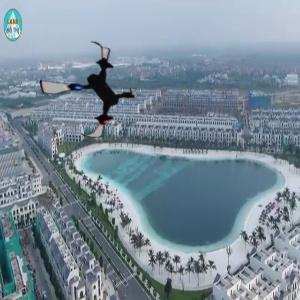drone: (40, 41, 142, 143)
